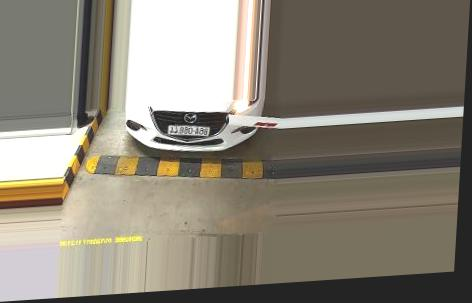License_Plate: (166, 121, 212, 138)
